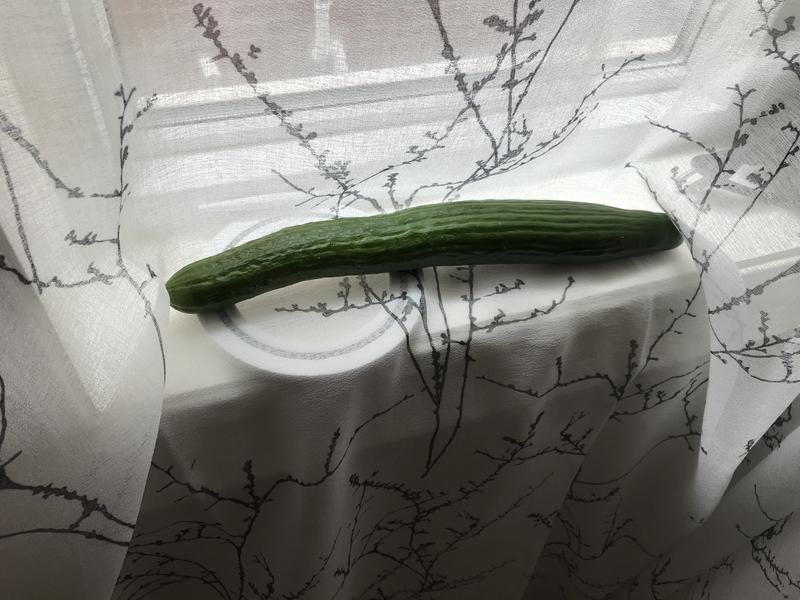cucumber: (144, 188, 699, 320)
